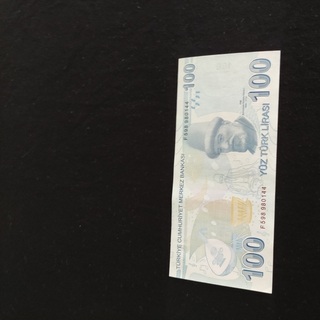100TLBack: (168, 49, 281, 294)
